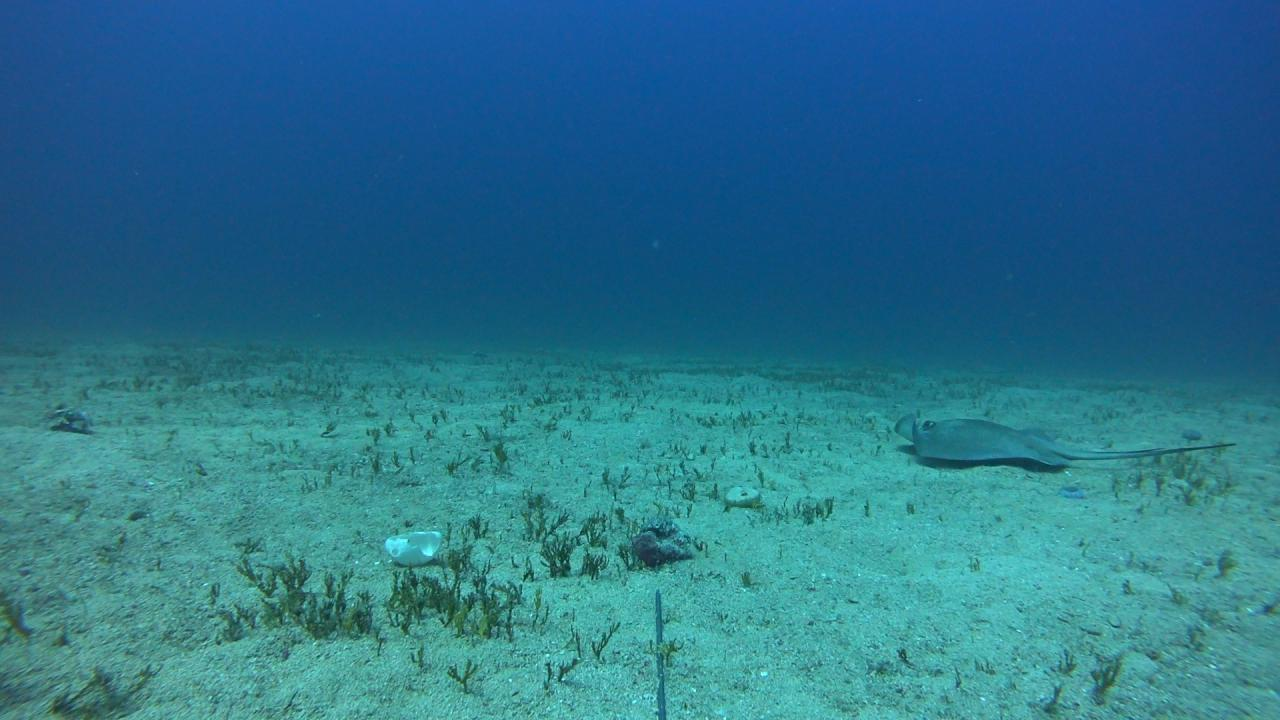dasyatis: (893, 410, 1239, 466)
